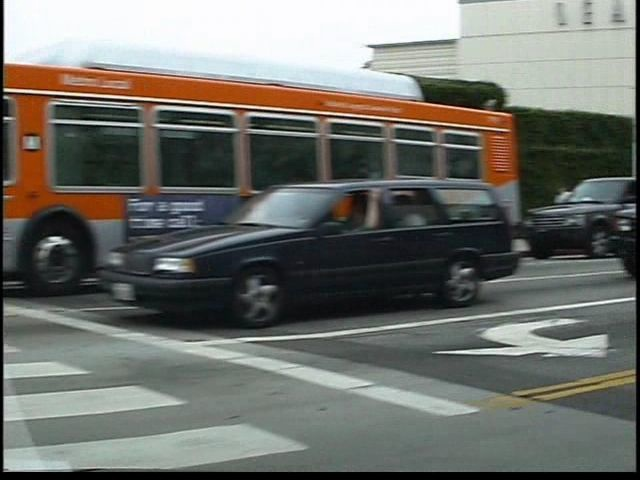person: (571, 181, 589, 203)
